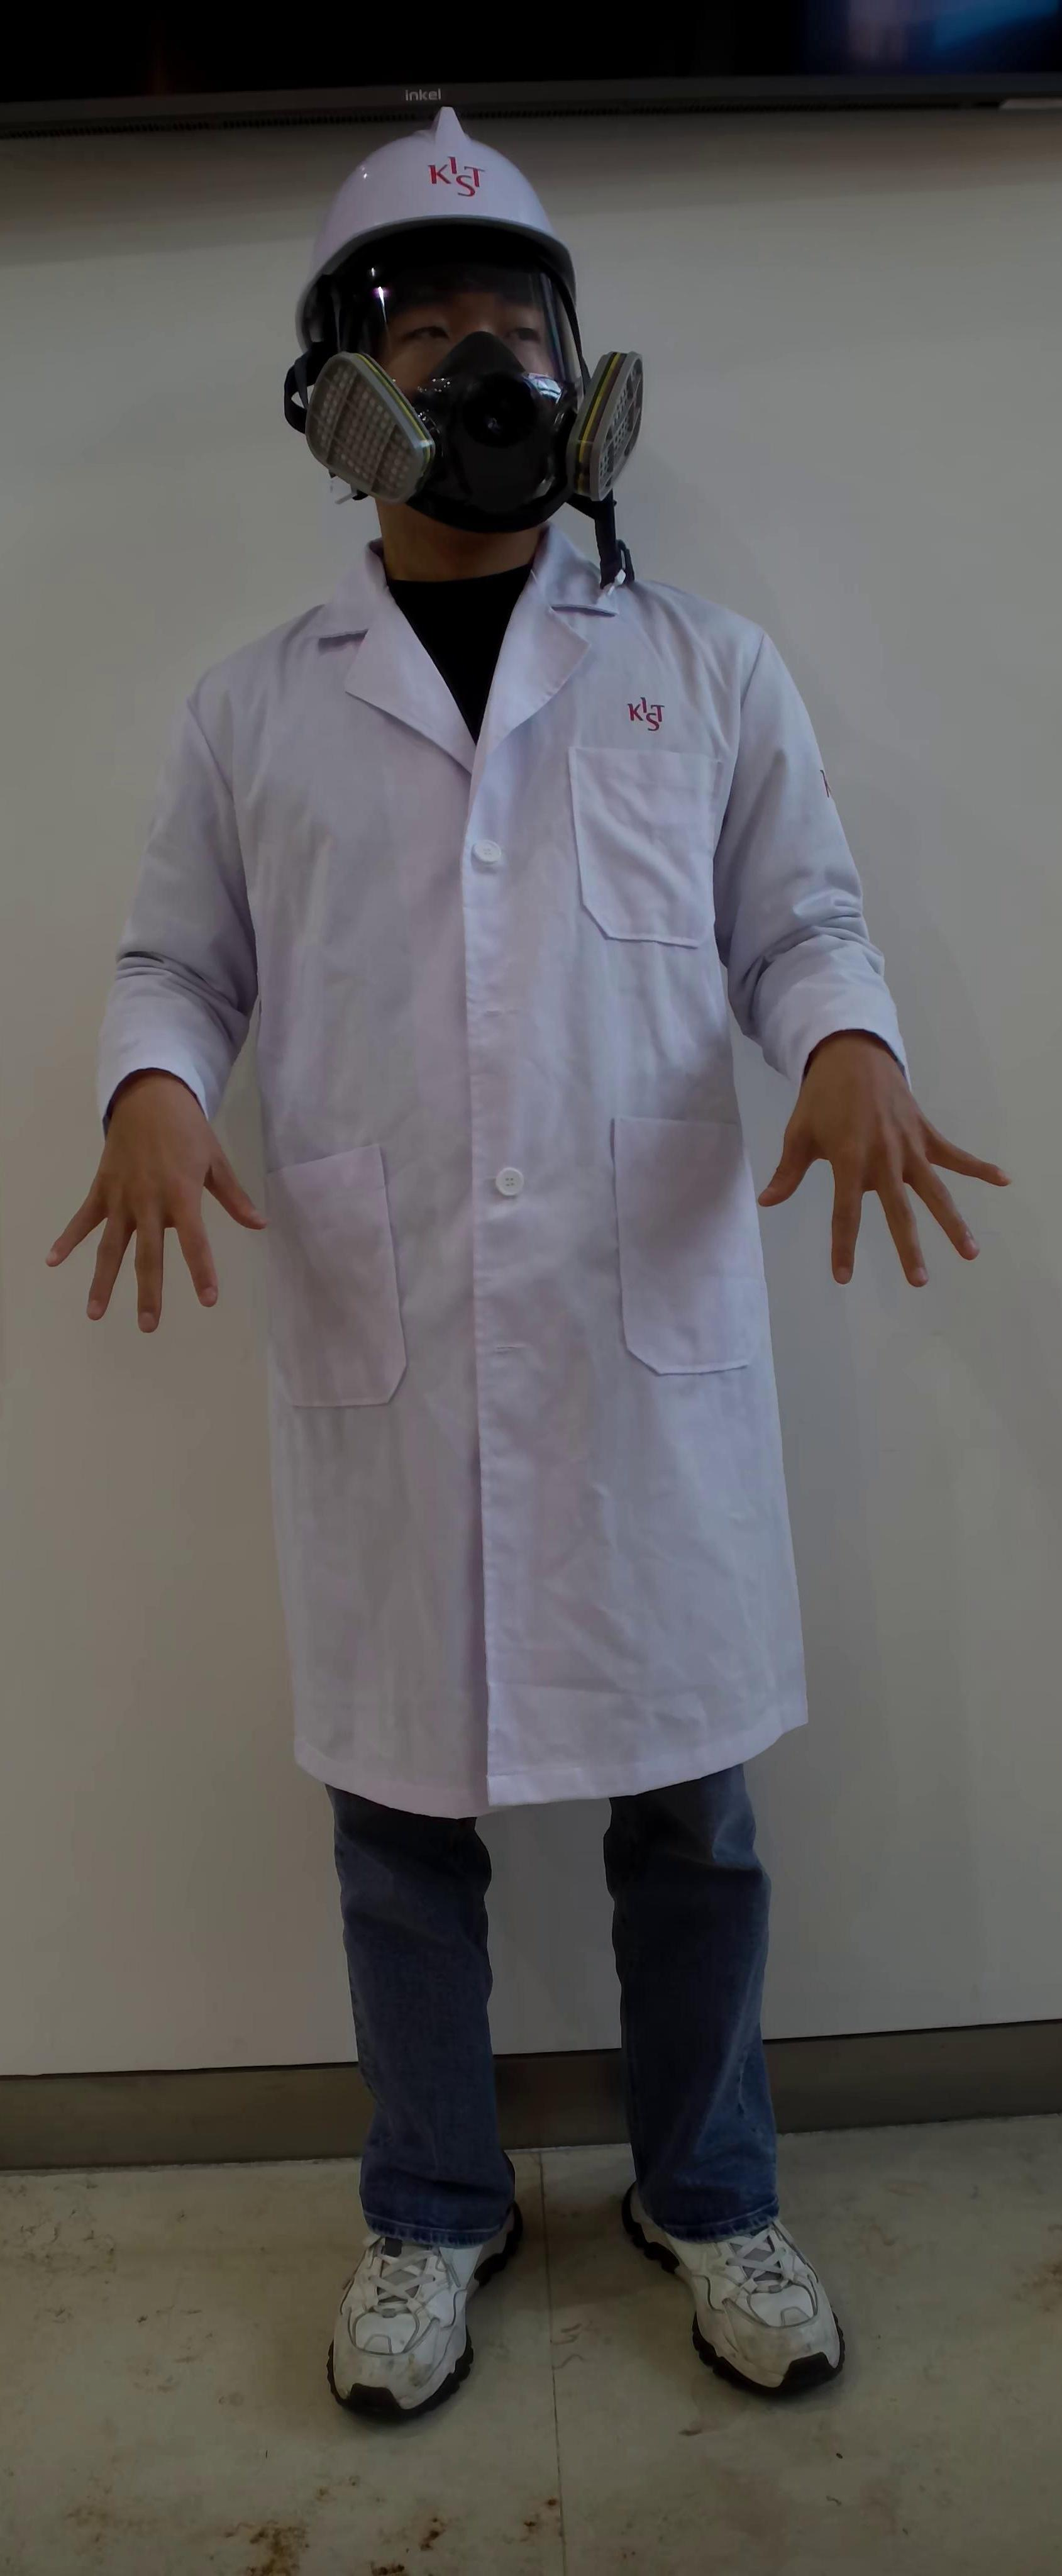lab_coat: (208, 631, 842, 1804)
